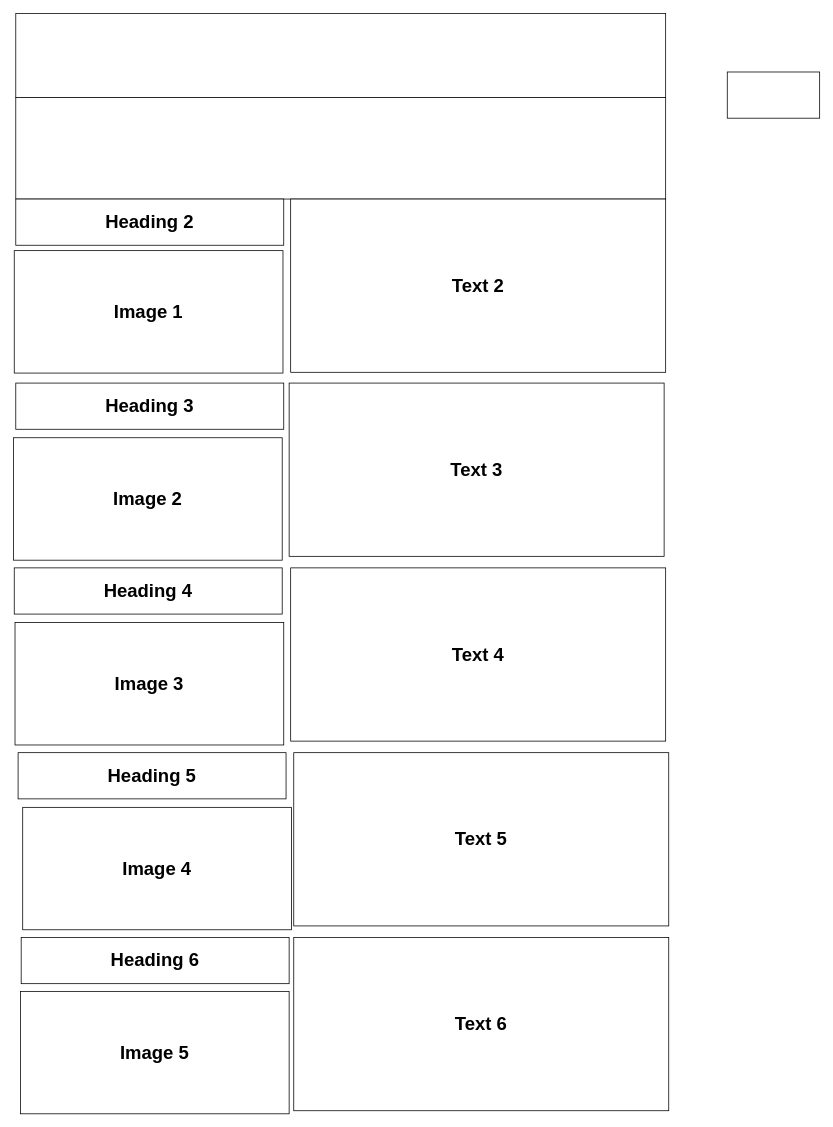
The diagram is 833 pixels wide and 1127 high, and some of its shapes have lost their labels. The shapes that lost their labels are listed below. From the top down, each one's centre as x and y in pixels, then its label:
At point 340,55: "Navbar/Logo".
At point 340,148: "Heading 1".
